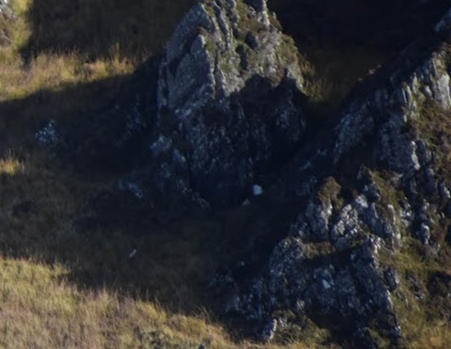white_in_green: (236, 165, 276, 207)
